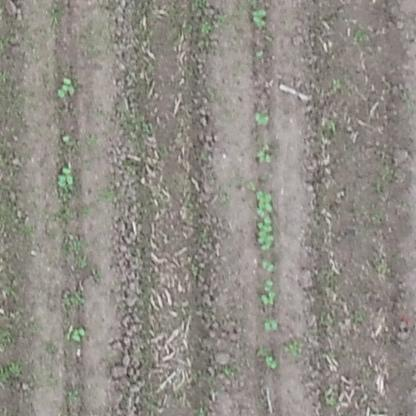vc: (253, 188, 277, 251), (55, 165, 77, 191), (56, 76, 77, 98), (249, 8, 269, 29), (69, 324, 88, 343), (259, 291, 279, 307), (253, 110, 271, 126), (263, 354, 281, 370), (261, 257, 277, 273), (257, 149, 272, 164), (264, 319, 279, 331), (263, 280, 274, 291)
